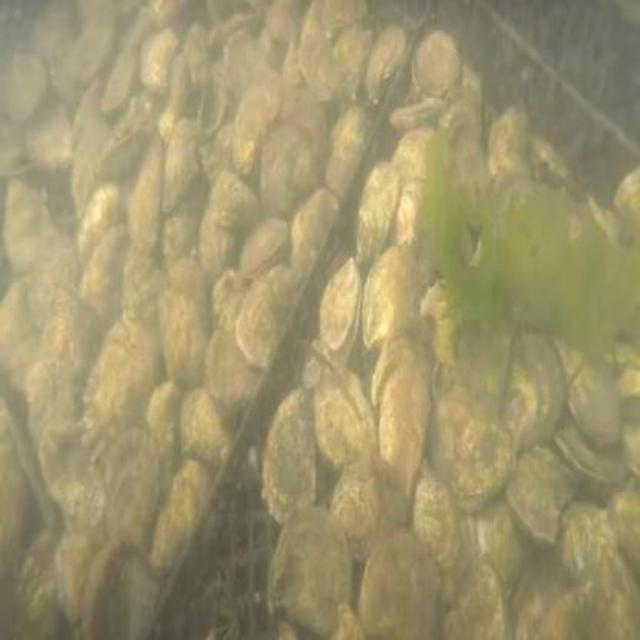Oyster-Closed: (269, 506, 351, 629), (86, 323, 159, 460), (431, 387, 509, 505), (361, 526, 439, 638), (331, 459, 407, 564), (502, 442, 579, 545), (505, 331, 564, 458), (379, 367, 431, 501), (266, 386, 315, 521), (152, 454, 208, 570), (104, 430, 162, 540), (383, 126, 433, 250), (315, 366, 378, 464), (441, 107, 491, 224), (438, 557, 505, 638), (233, 66, 282, 176), (26, 360, 78, 455), (75, 76, 111, 211), (27, 229, 77, 326), (412, 458, 458, 562), (510, 560, 571, 638), (0, 278, 41, 394), (590, 539, 638, 638), (77, 228, 126, 324), (262, 126, 315, 214), (161, 292, 207, 393), (281, 90, 329, 185), (355, 161, 399, 262), (569, 365, 621, 449), (558, 504, 615, 580), (125, 249, 169, 346), (127, 134, 162, 253), (79, 185, 128, 267), (206, 327, 259, 401), (362, 250, 402, 348), (4, 186, 47, 277), (371, 326, 419, 403), (38, 298, 83, 380), (27, 104, 75, 180), (181, 386, 227, 465), (237, 273, 276, 364), (168, 258, 210, 342), (362, 23, 406, 103), (55, 530, 92, 625), (532, 579, 591, 638), (295, 187, 335, 274), (325, 109, 365, 195), (199, 205, 236, 297), (163, 119, 202, 205), (300, 34, 347, 105), (243, 215, 292, 280), (222, 32, 266, 103), (97, 111, 145, 176), (412, 31, 459, 96), (4, 56, 47, 119), (211, 171, 261, 225), (212, 266, 247, 340), (141, 27, 180, 92), (335, 28, 373, 93), (490, 106, 523, 179), (158, 57, 187, 139), (147, 382, 181, 450), (69, 20, 111, 74), (103, 51, 135, 114), (608, 496, 638, 561), (389, 97, 441, 131), (183, 22, 210, 85), (299, 0, 326, 56), (613, 166, 638, 222), (163, 215, 190, 265), (326, 0, 369, 27), (616, 368, 638, 397)
Oyster-Open: (321, 258, 361, 368), (552, 425, 623, 480)
